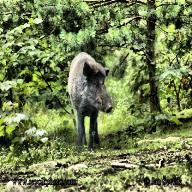boar: (60, 40, 148, 150)
